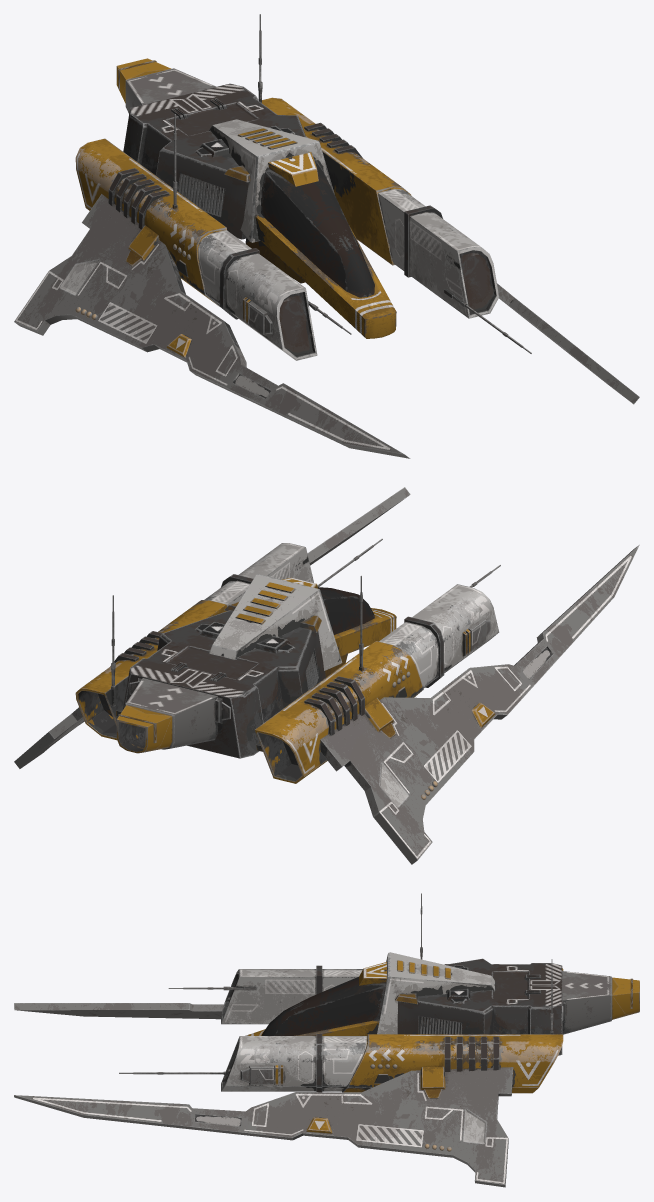
File: Striker.glb
3 views of the same model, one above another, from view 1: azimuth 30°, elevation 25°; view 2: azimuth 150°, elevation 25°; view 3: azimuth 270°, elevation 25° (orthographic). The views are drawn at different scales.
Visible parts, largest first — view 1: Striker; view 2: Striker; view 3: Striker.
Part boxes in pixels (x1,y1,x2,y2): Striker: [14, 14, 639, 458]; Striker: [14, 487, 639, 864]; Striker: [14, 893, 639, 1187].
Bounding box in the file's own units: 5.03 × 2.68 × 8.43.
Materials: 1 (1 with a texture image).
